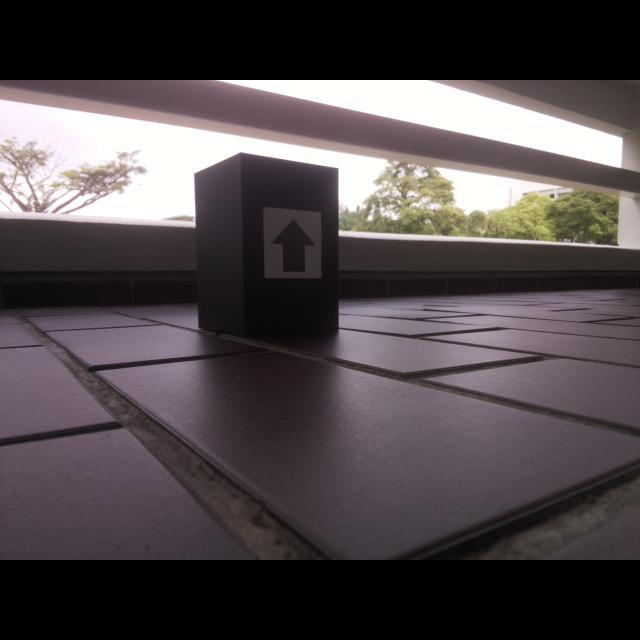UP: (270, 218, 317, 274)
